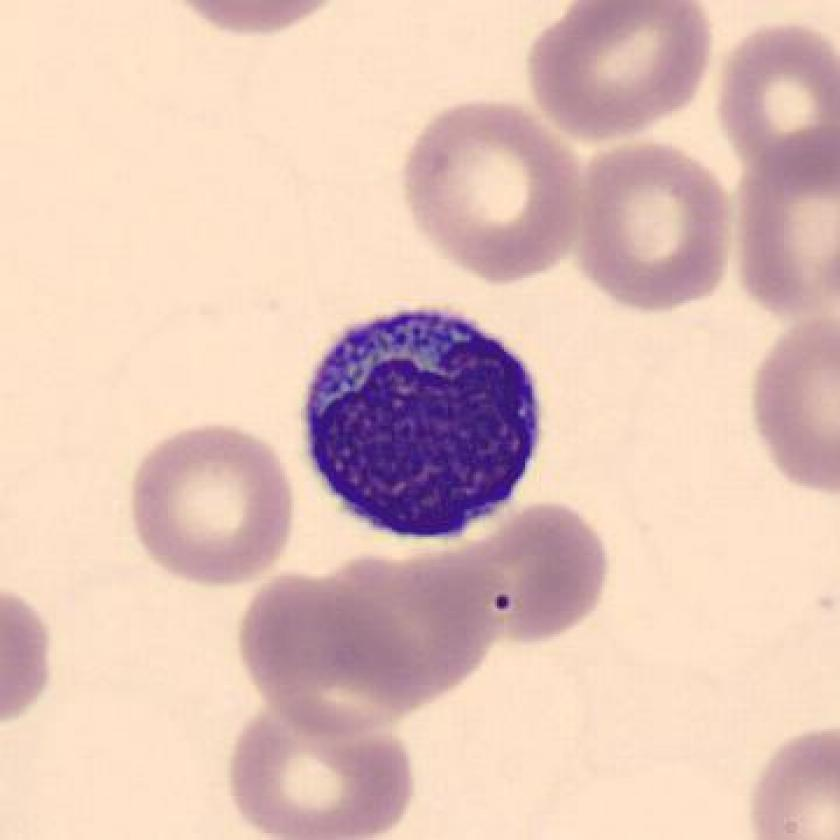lymphocyte: (290, 288, 559, 554)
